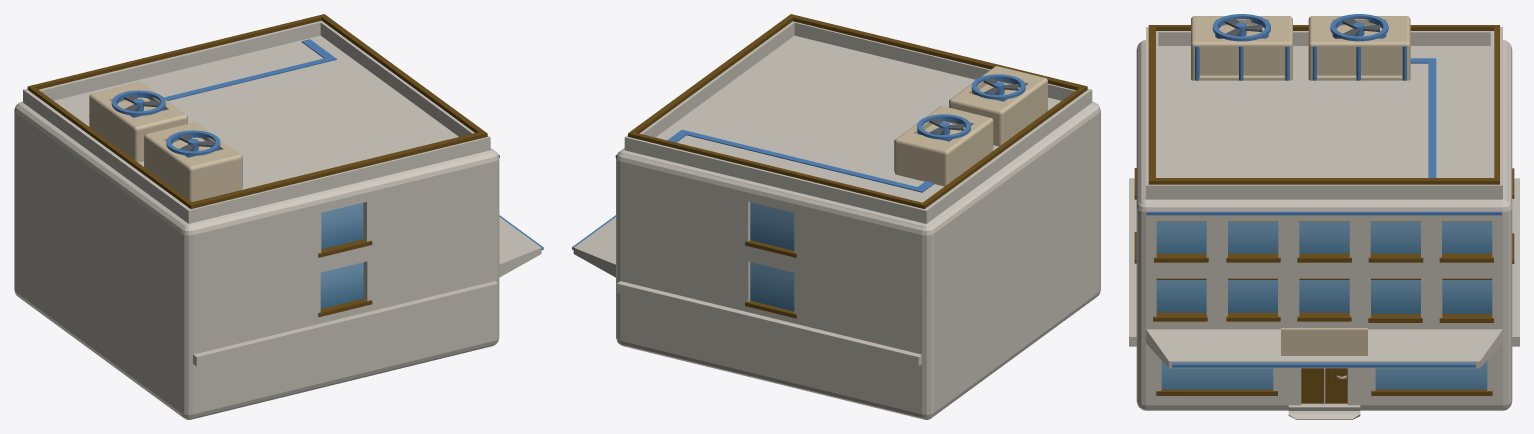
File: de04bbb1-42d0-4210-bf97-561409605cf6.glb
3 views of the same model, side by side, from view 1: azimuth 30°, elevation 25°; view 2: azimuth 150°, elevation 25°; view 3: azimuth 270°, elevation 25° (orthographic). The views are drawn at different scales.
Visible parts, largest first — view 1: Node; view 2: Node; view 3: Node.
Boxes of the visible parts, x1,y1,x2,y2 form: Node: (14,14,543,419); Node: (572,14,1100,419); Node: (1129,14,1519,419).
Size of the model in its own units: 395 by 236 by 332.
Materials: 1 (1 with a texture image).
